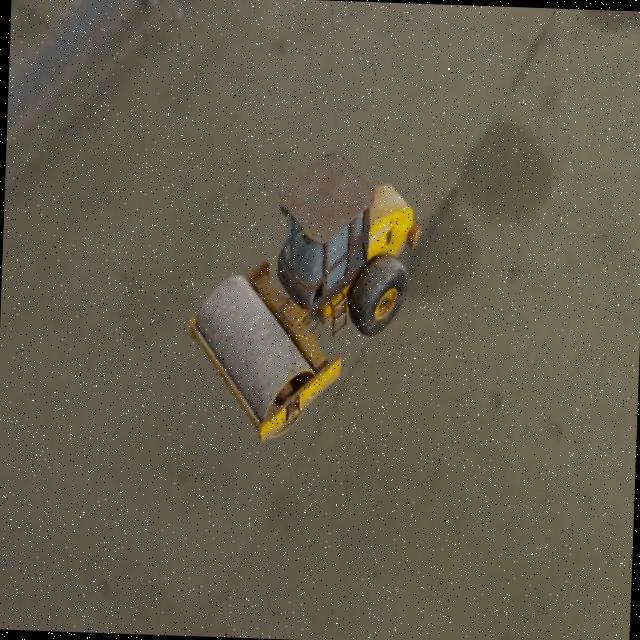Roller: (183, 144, 423, 448)
